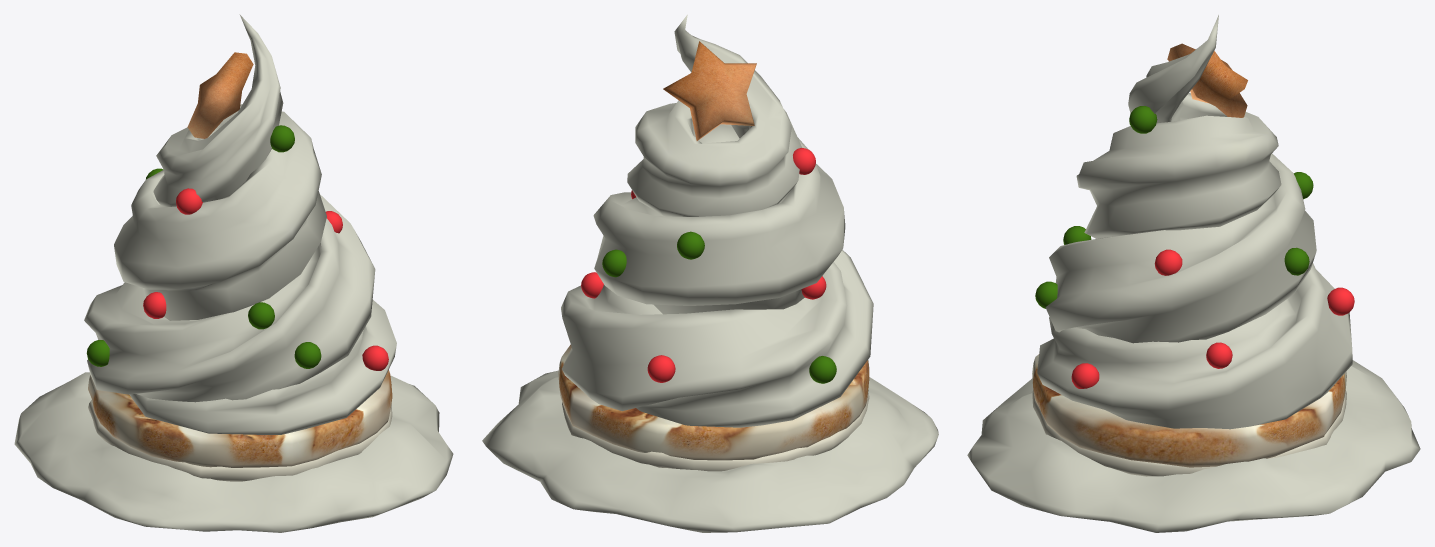
File: Fudge_Tree.glb
The picture shows the model from 3 angles, left to right: view 1: azimuth 30°, elevation 25°; view 2: azimuth 150°, elevation 25°; view 3: azimuth 270°, elevation 25°; orthographic projection. The views are drawn at different scales.
Visible parts, largest first — view 1: Tree_Fudge, Tree_Base, Tree_Balls; view 2: Tree_Fudge, Tree_Base, Tree_Balls; view 3: Tree_Fudge, Tree_Base, Tree_Balls.
Part boxes in pixels (left/top/right/bottom): Tree_Fudge: left=84, top=14, right=396, bottom=434; Tree_Base: left=14, top=370, right=453, bottom=532; Tree_Balls: left=86, top=125, right=388, bottom=370; Tree_Fudge: left=561, top=14, right=873, bottom=427; Tree_Base: left=482, top=344, right=938, bottom=532; Tree_Balls: left=581, top=148, right=836, bottom=383; Tree_Fudge: left=1037, top=15, right=1352, bottom=429; Tree_Base: left=967, top=354, right=1420, bottom=532; Tree_Balls: left=1035, top=106, right=1354, bottom=388.
Size of the model in its own units: 0.0376 by 0.0421 by 0.0387.
7 materials, 4 textured.
